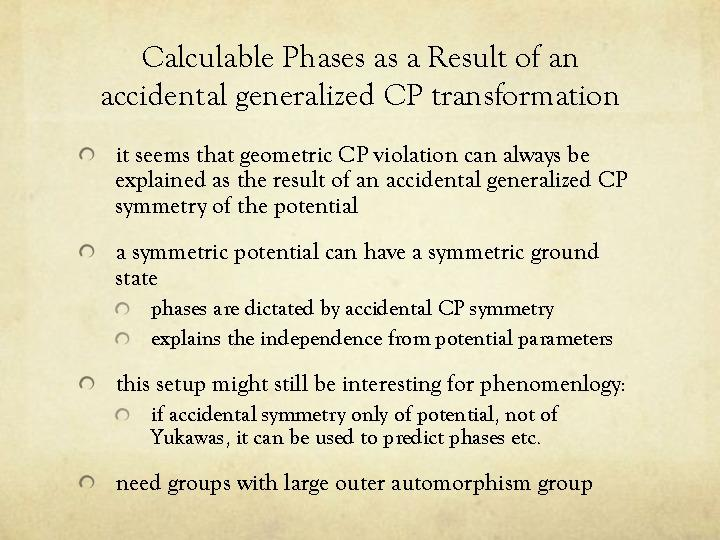paragraph: (64, 131, 680, 521)
title: (80, 28, 634, 121)
